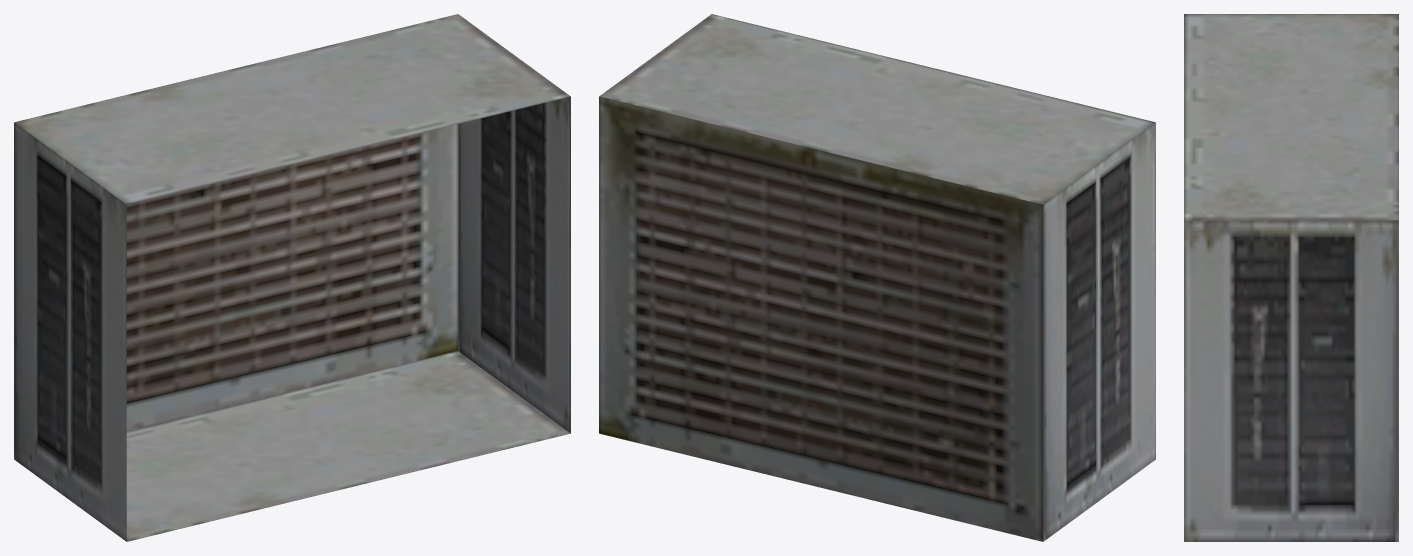
The model's file is ac_unit_var_c.fbx.
3 views of the same model, side by side, from view 1: azimuth 30°, elevation 25°; view 2: azimuth 150°, elevation 25°; view 3: azimuth 270°, elevation 25° (orthographic). The views are drawn at different scales.
Visible parts, largest first — view 1: mesh_0; view 2: mesh_0; view 3: mesh_0.
Boxes of the visible parts, x1,y1,x2,y2 form: mesh_0: (14, 14, 570, 541); mesh_0: (599, 14, 1155, 541); mesh_0: (1184, 14, 1398, 541).
Bounding box in the file's own units: 91 × 66 × 40.
1 material, 1 textured.
